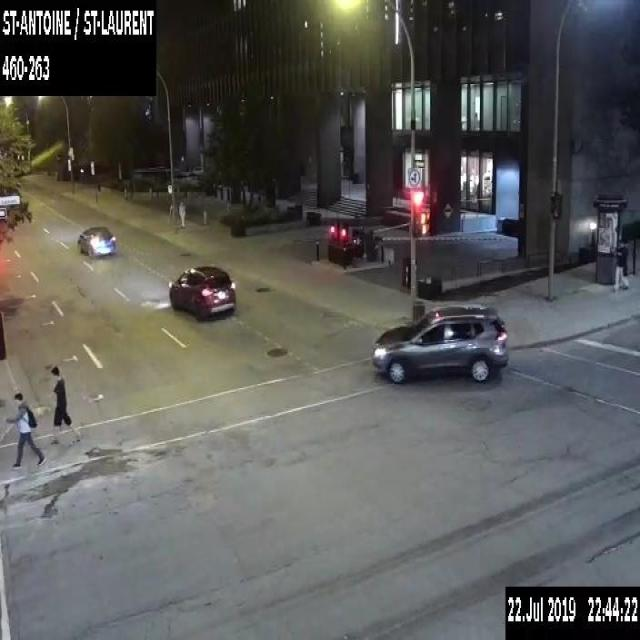pedestrian: (5, 392, 46, 469), (48, 365, 81, 451), (609, 236, 629, 291), (169, 198, 178, 224), (178, 198, 186, 226)
vehicle: (370, 304, 509, 385), (168, 263, 236, 321), (76, 224, 116, 259)
